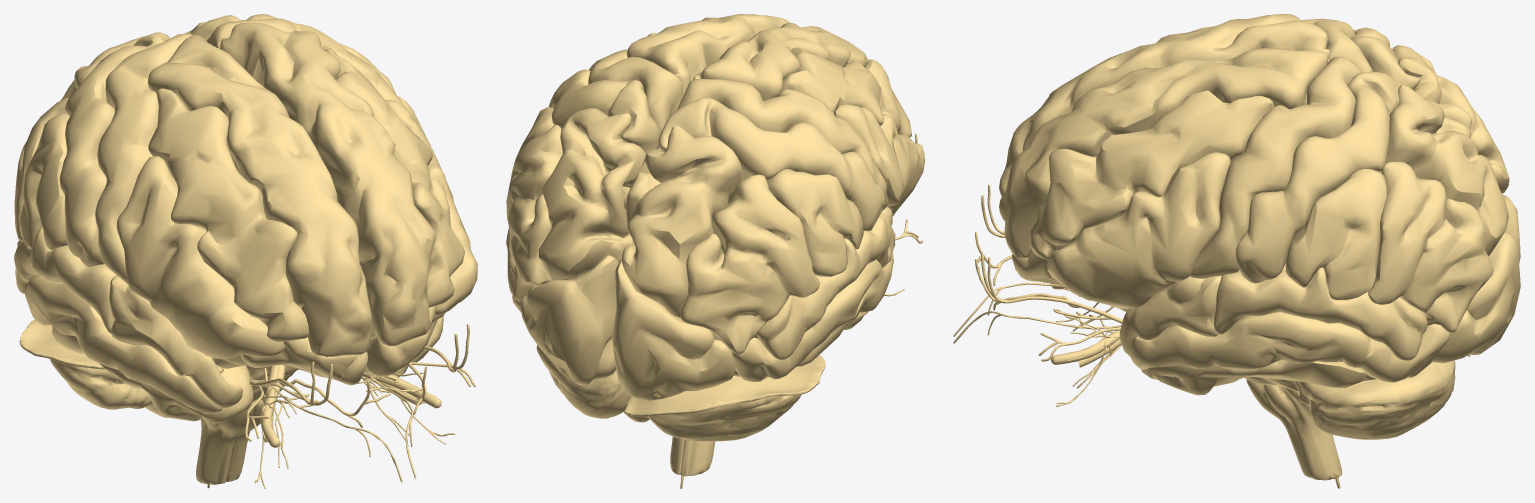
File: nervous.glb
3 renders of one model, left to right at view 1: azimuth 30°, elevation 25°; view 2: azimuth 150°, elevation 25°; view 3: azimuth 270°, elevation 25°, orthographic. The views are drawn at different scales.
Visible parts, largest first — view 1: brain, bp3d_FJ1836, bp3d_FJ1377, bp3d_FJ1376, bp3d_FJ1344, bp3d_FJ1293; view 2: brain, bp3d_FJ1836, bp3d_FJ1835, bp3d_FJ1792, bp3d_FJ1791; view 3: brain, bp3d_FJ1835, bp3d_FJ1791, bp3d_FJ1836, bp3d_FJ1325.
Part boxes in pixels (<box>): brain: <box>14,14,477,484</box>; bp3d_FJ1836: <box>60,36,144,100</box>; bp3d_FJ1377: <box>278,379,390,427</box>; bp3d_FJ1376: <box>276,361,332,405</box>; bp3d_FJ1344: <box>254,368,296,488</box>; bp3d_FJ1293: <box>362,376,455,444</box>; brain: <box>506,14,924,476</box>; bp3d_FJ1836: <box>622,125,743,317</box>; bp3d_FJ1835: <box>538,108,645,280</box>; bp3d_FJ1792: <box>612,259,735,401</box>; bp3d_FJ1791: <box>520,255,618,385</box>; brain: <box>999,14,1493,480</box>; bp3d_FJ1835: <box>1379,84,1508,255</box>; bp3d_FJ1791: <box>1432,231,1520,363</box>; bp3d_FJ1836: <box>1392,45,1509,193</box>; bp3d_FJ1325: <box>981,253,1081,307</box>.
Bounding box in the file's own units: 0.1408 × 0.1718 × 0.1958.
